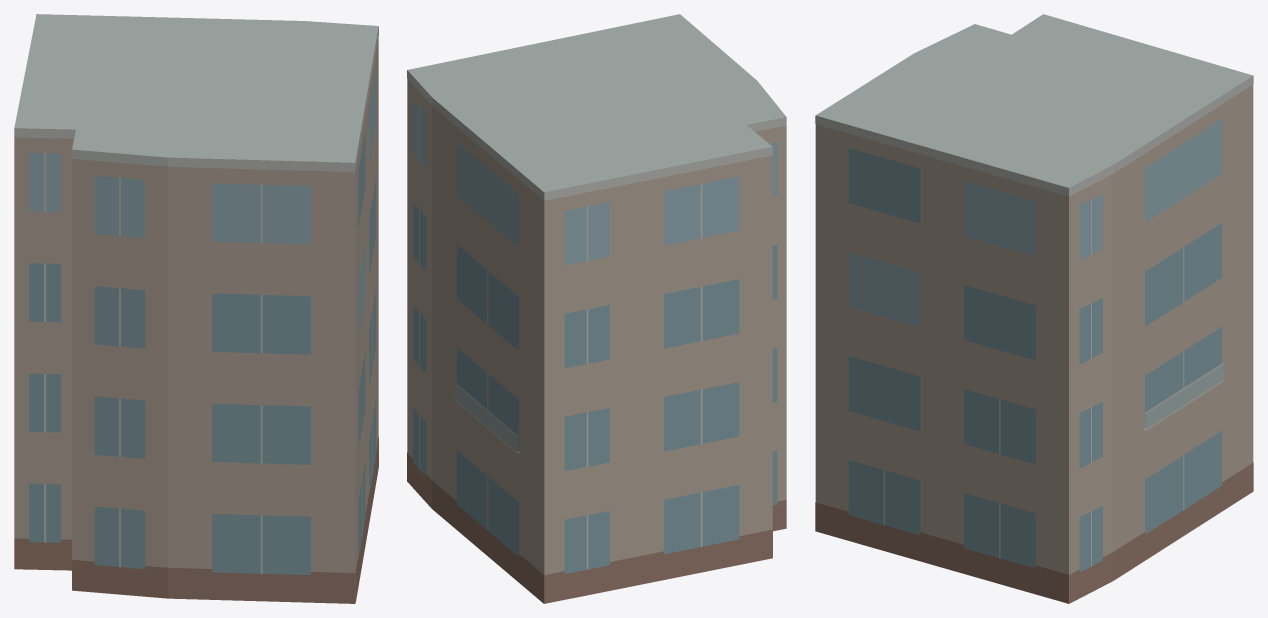
Rendered from survey-upis-32628375.glb.
The picture shows the model from 3 angles, left to right: view 1: azimuth 30°, elevation 25°; view 2: azimuth 150°, elevation 25°; view 3: azimuth 270°, elevation 25°; orthographic projection. The views are drawn at different scales.
Visible parts, largest first — view 1: survey-upis-32628375.tmp; view 2: survey-upis-32628375.tmp; view 3: survey-upis-32628375.tmp.
Boxes of the visible parts, left/top/right/bottom form: survey-upis-32628375.tmp: left=14, top=14, right=378, bottom=603; survey-upis-32628375.tmp: left=407, top=14, right=786, bottom=603; survey-upis-32628375.tmp: left=815, top=14, right=1253, bottom=603.
Bounding box in the file's own units: 10.46 × 11.65 × 11.13.
